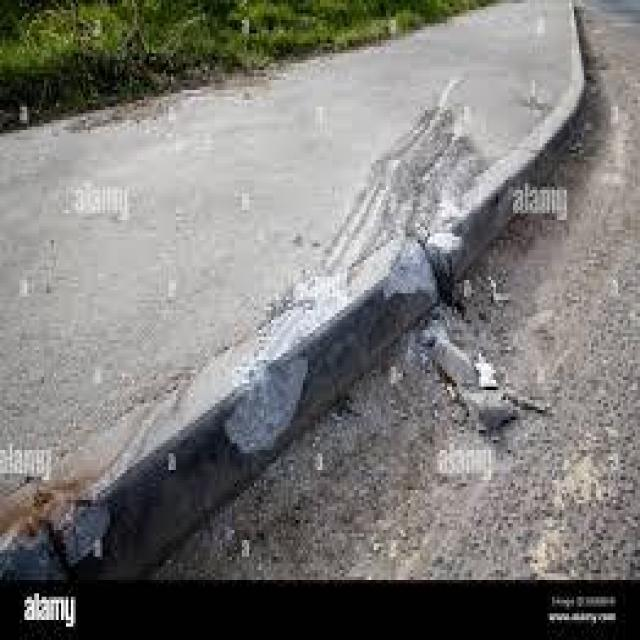curb: (1, 1, 590, 589)
